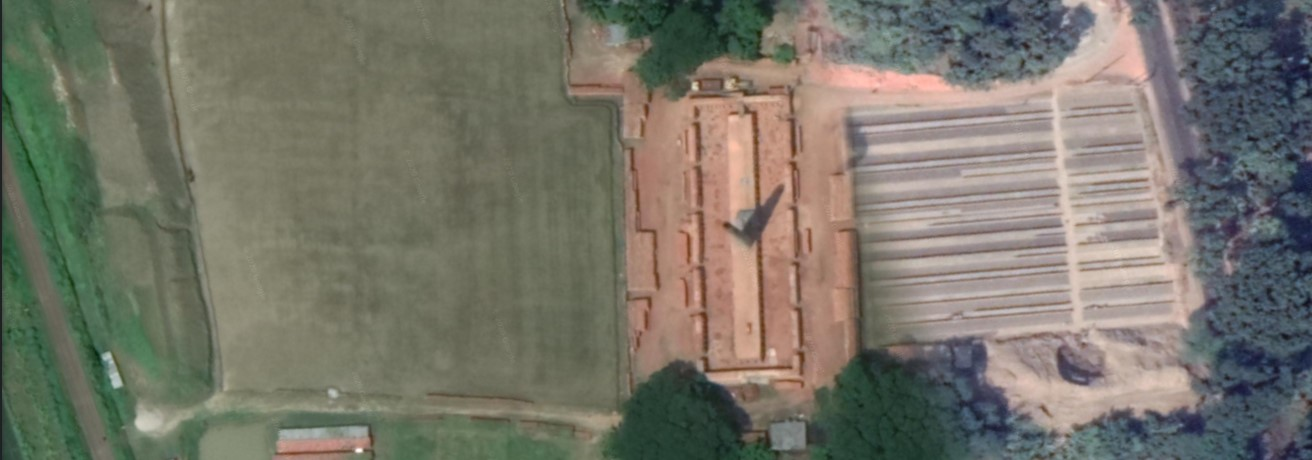kiln: (638, 106, 832, 374)
